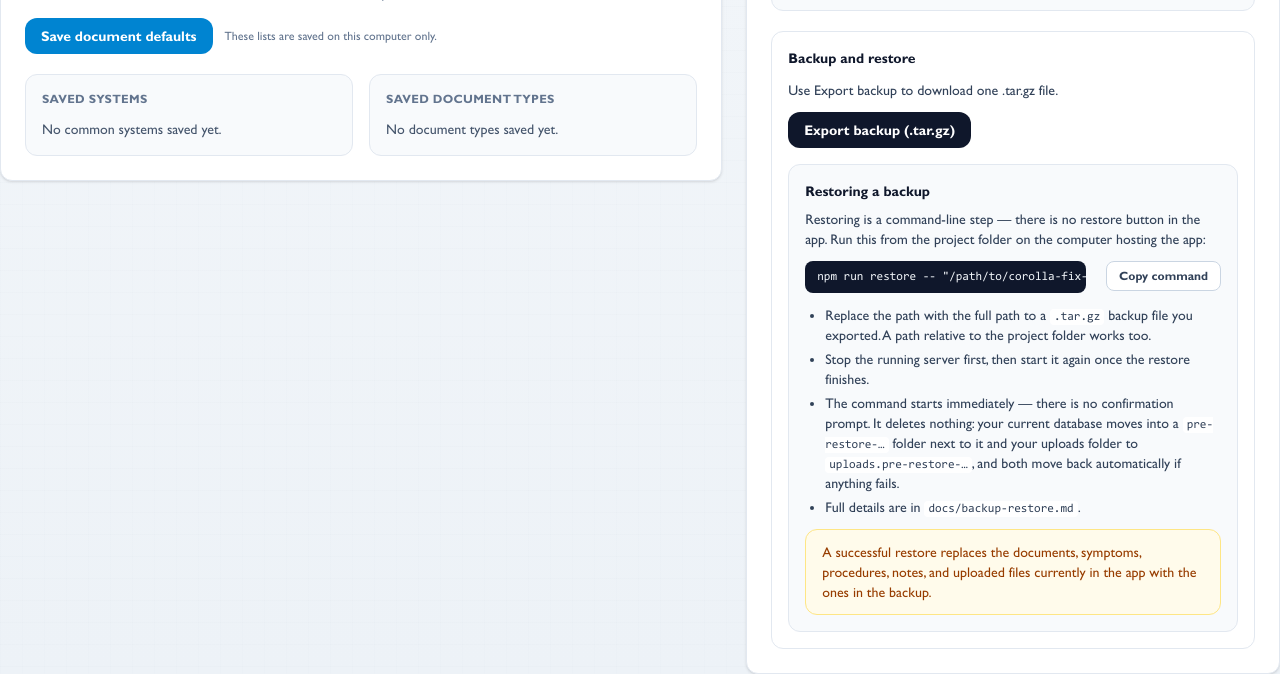
it: the restore command can be copied to the clipboard
The width and height of the screenshot is (1280, 674).
(page scrolled)
Click the button "Copy command".
click(1164, 276)  # box left=1106, top=261, right=1221, bottom=291
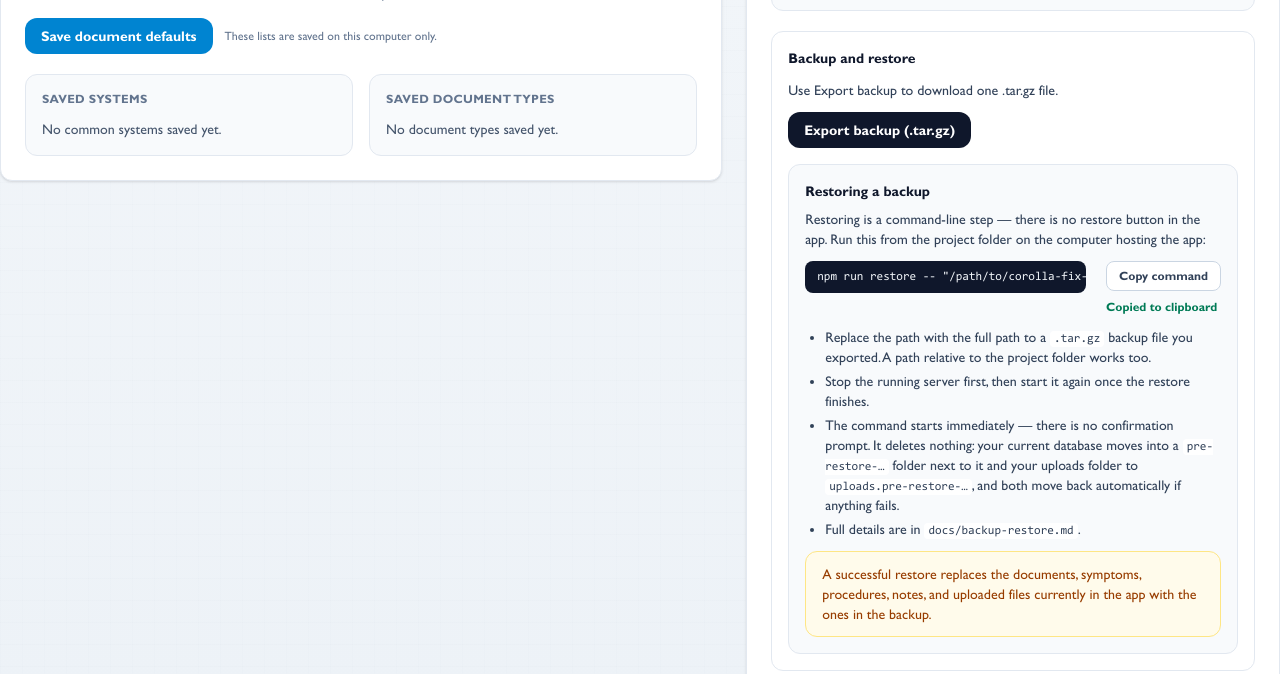
Expected: the text "Copied to clipboard" is shown, left=1106, top=299, right=1221, bottom=315
